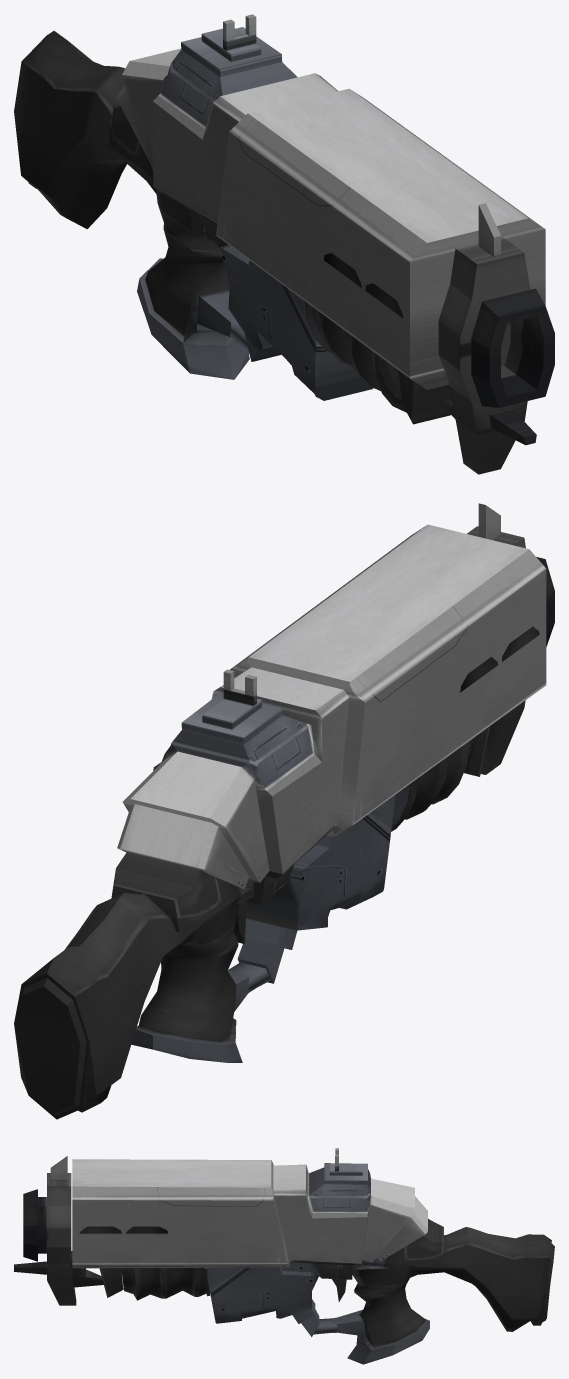
Rendered from Weapon.fbx.
3 renders of one model, top to bottom at view 1: azimuth 30°, elevation 25°; view 2: azimuth 150°, elevation 25°; view 3: azimuth 270°, elevation 25°, orthographic. The views are drawn at different scales.
Parts seen in each view (by area): view 1: pistoler2; view 2: pistoler2; view 3: pistoler2.
Part boxes in pixels (x1,y1,x2,y2): pistoler2: (14, 14, 554, 474); pistoler2: (14, 503, 554, 1119); pistoler2: (14, 1148, 554, 1364).
Bounding box in the file's own units: 38.38 × 99.57 × 238.
